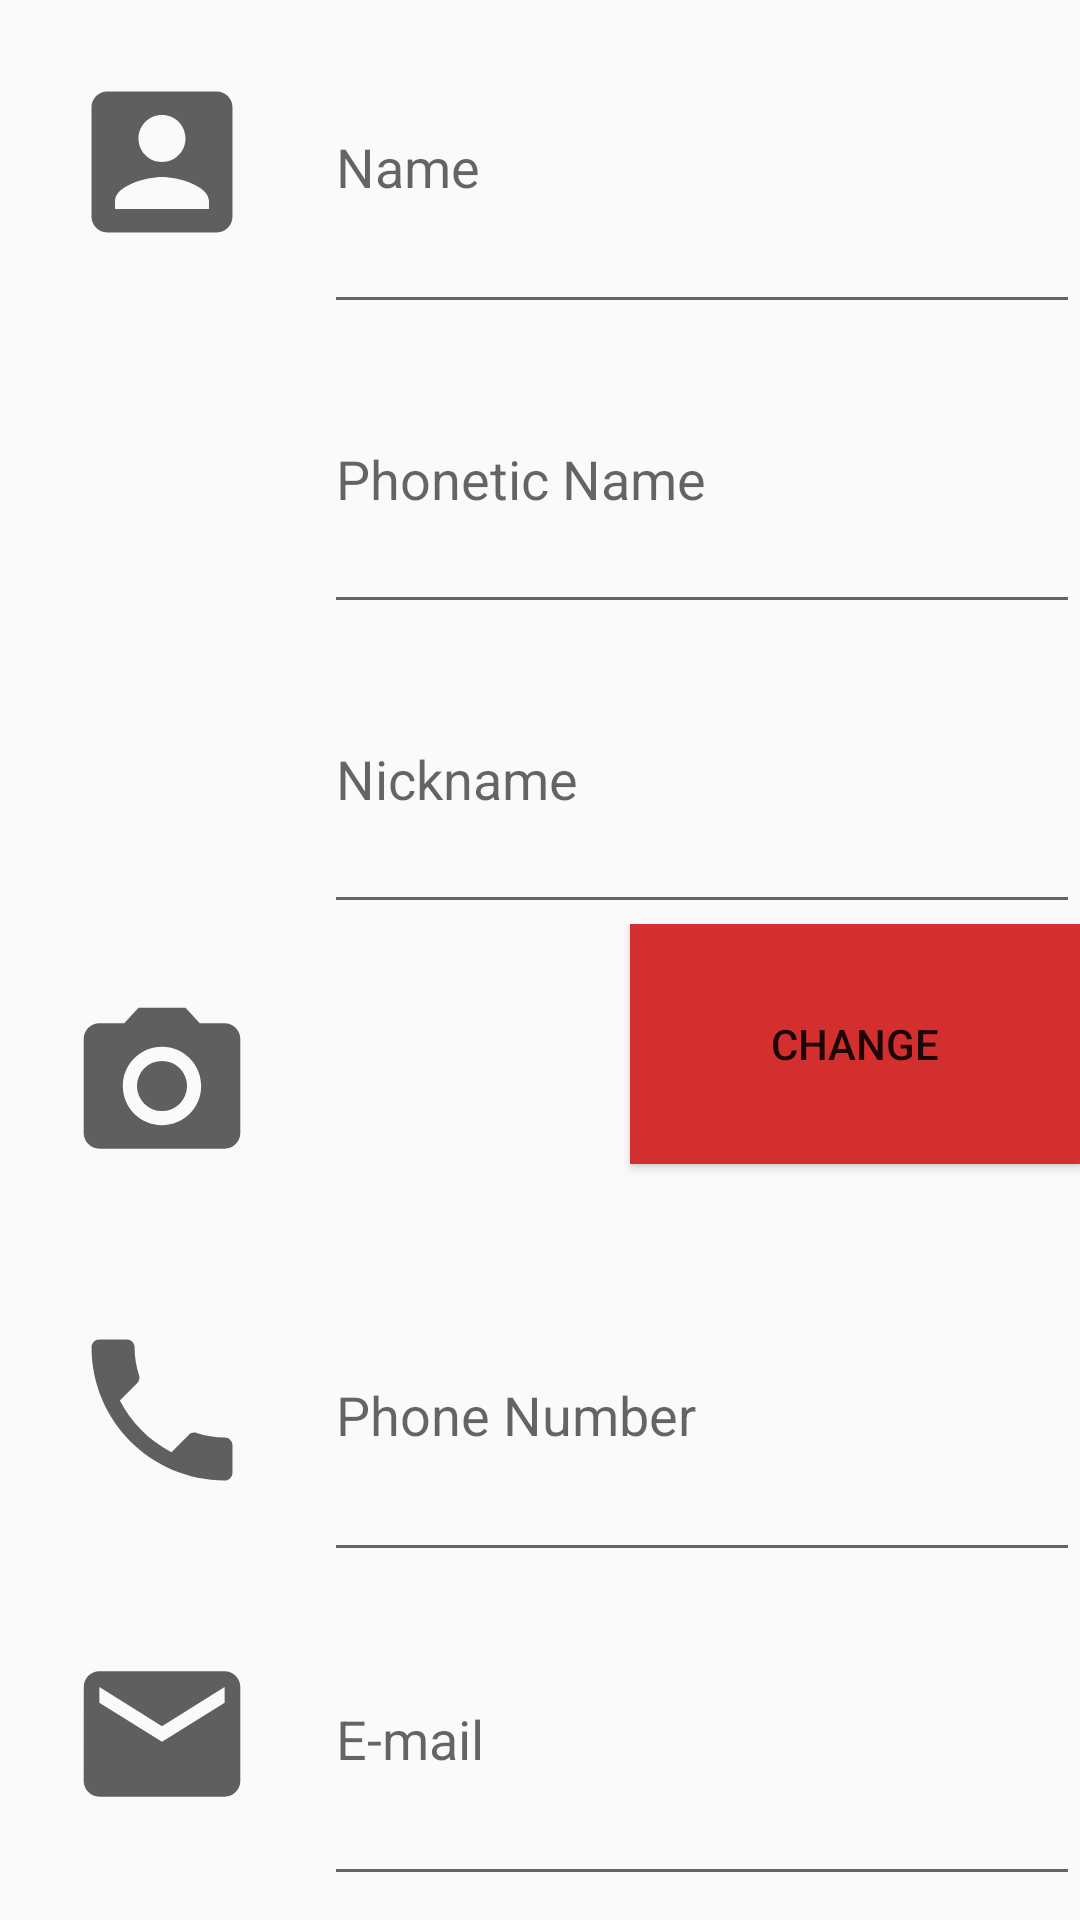

Screen size 1080w x 1920h. Icon name, then its center in pixels as (x=x, y=y):
camera: (x=162, y=1078)
person: (x=162, y=162)
